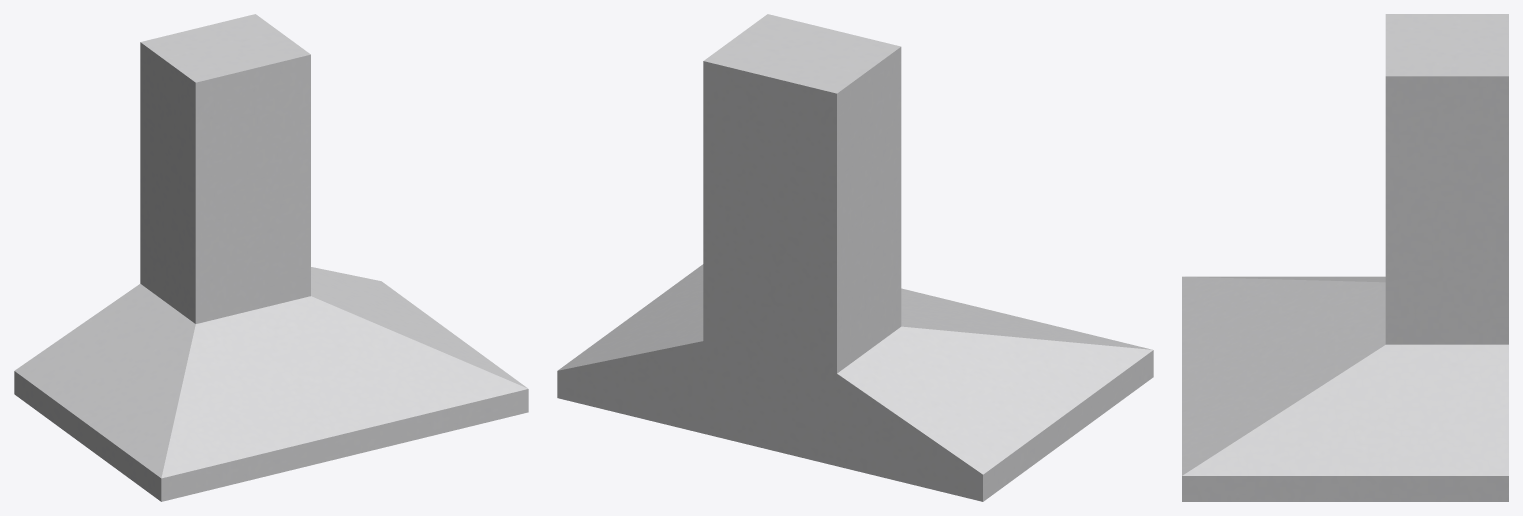
File: KitchenExhaust01.fbx
The picture shows the model from 3 angles, left to right: view 1: azimuth 30°, elevation 25°; view 2: azimuth 150°, elevation 25°; view 3: azimuth 270°, elevation 25°; orthographic projection. The views are drawn at different scales.
Visible parts, largest first — view 1: KitchenExhaust01; view 2: KitchenExhaust01; view 3: KitchenExhaust01.
Boxes of the visible parts, x1=… form: KitchenExhaust01: x1=14, y1=14, x2=528, y2=501; KitchenExhaust01: x1=557, y1=14, x2=1153, y2=501; KitchenExhaust01: x1=1182, y1=14, x2=1508, y2=501.
Size of the model in its own units: 55.45 by 46.38 by 38.45.
